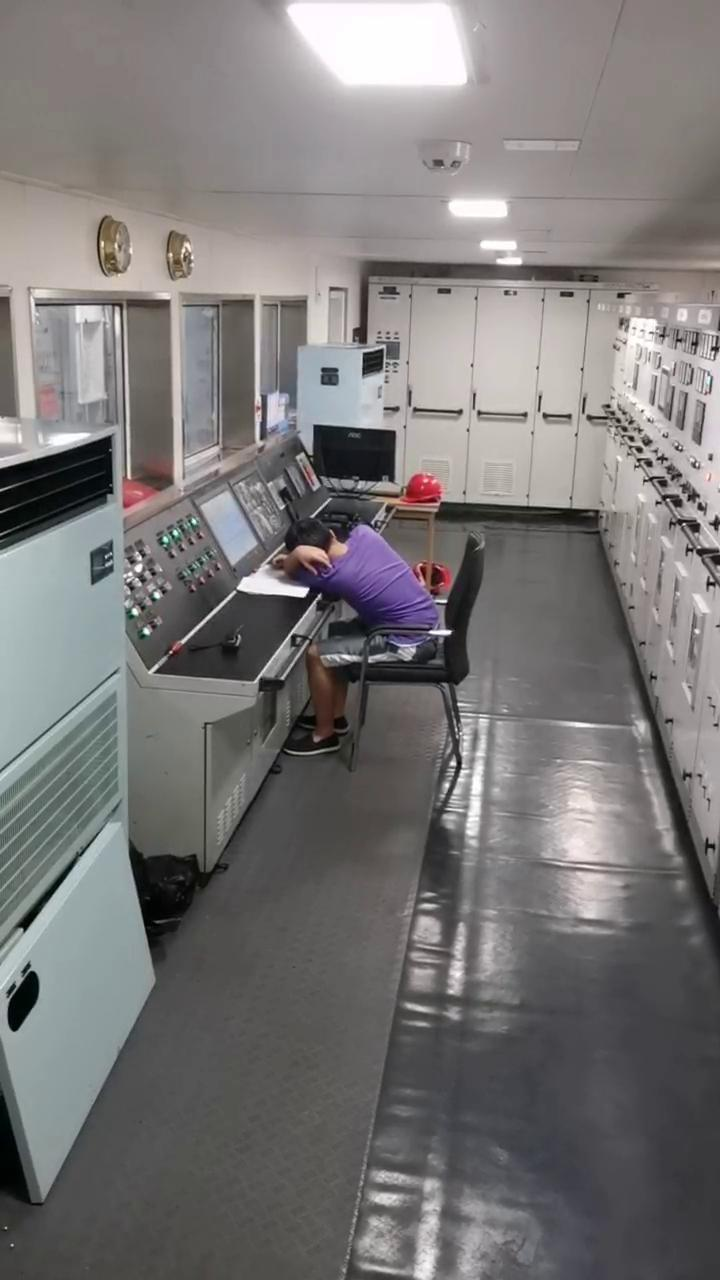sleep: (276, 510, 444, 670)
